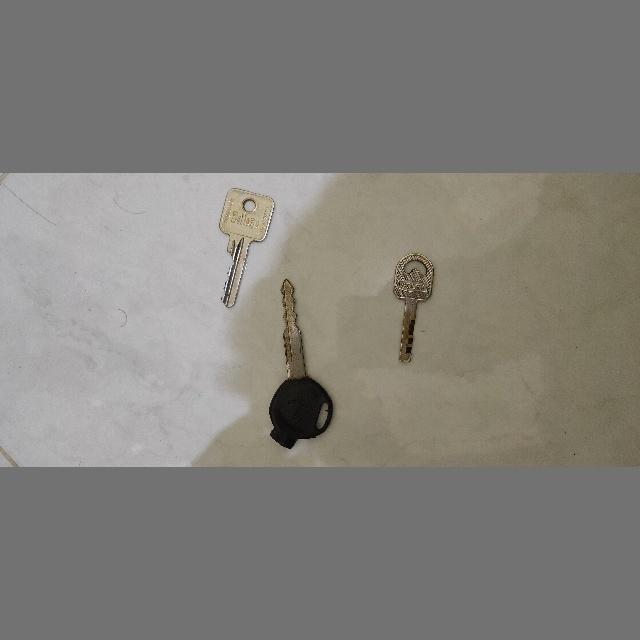Keys: (266, 278, 338, 450), (211, 186, 279, 310), (390, 250, 434, 364)
